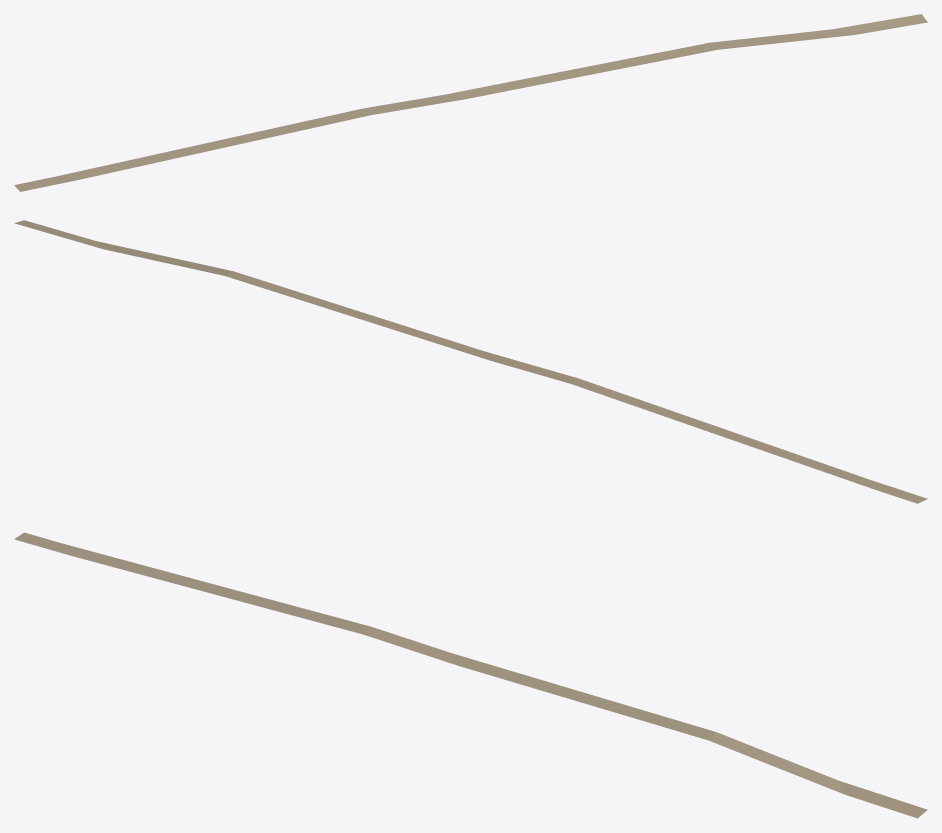
Rendered from farm_11_7_track.glb.
The picture shows the model from 3 angles, top to bottom: view 1: azimuth 30°, elevation 25°; view 2: azimuth 150°, elevation 25°; view 3: azimuth 330°, elevation 25°; orthographic projection. The views are drawn at different scales.
Parts seen in each view (by area): view 1: geometry_0; view 2: geometry_0; view 3: geometry_0.
Part boxes in pixels (left/top/right/bottom): geometry_0: left=14, top=14, right=927, bottom=191; geometry_0: left=14, top=220, right=927, bottom=503; geometry_0: left=14, top=532, right=927, bottom=818.
Size of the model in its own units: 210 by 3.15 by 25.79.
